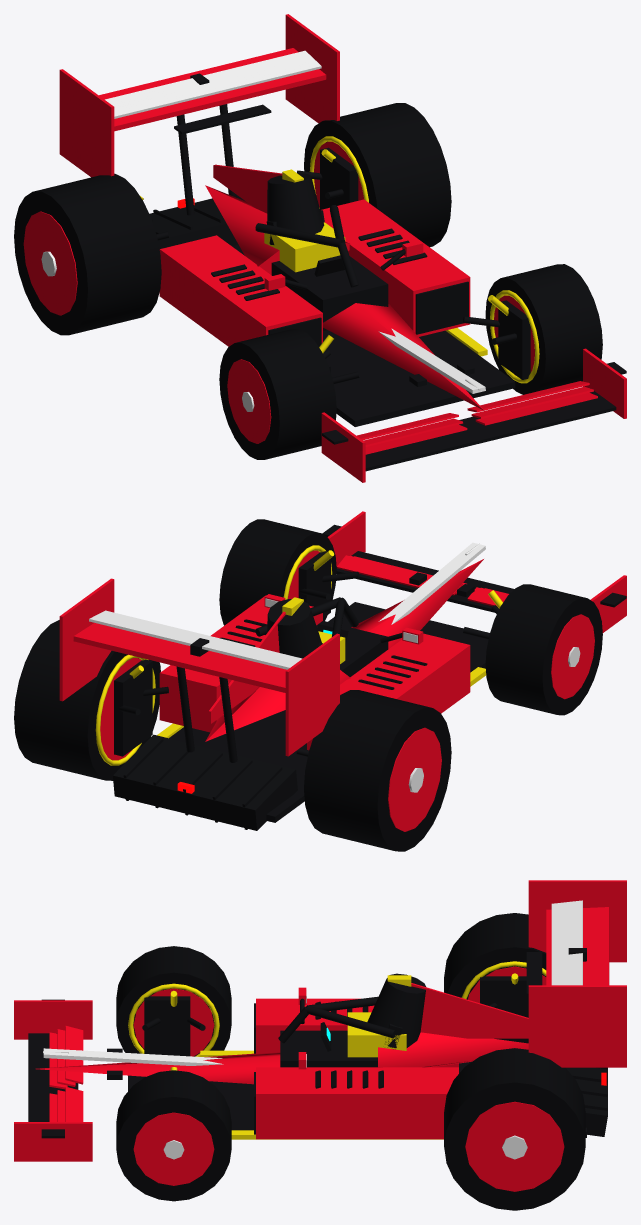
The model's file is f1_bright_red_buggy_v3.glb.
3 views of the same model, one above another, from view 1: azimuth 30°, elevation 25°; view 2: azimuth 150°, elevation 25°; view 3: azimuth 270°, elevation 25° (orthographic). The views are drawn at different scales.
Visible parts, largest first — view 1: F1_Bright_Red_Buggy; view 2: F1_Bright_Red_Buggy; view 3: F1_Bright_Red_Buggy.
Boxes of the visible parts, left/top/right/bottom form: F1_Bright_Red_Buggy: left=14, top=14, right=626, bottom=482; F1_Bright_Red_Buggy: left=14, top=511, right=626, bottom=851; F1_Bright_Red_Buggy: left=14, top=880, right=626, bottom=1210.
Bounding box in the file's own units: 3.11 × 1.62 × 4.68.
